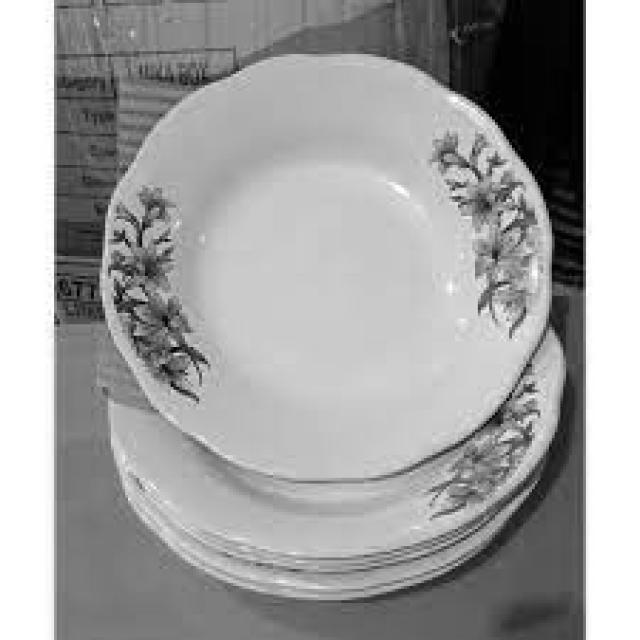dish: (54, 29, 598, 500)
